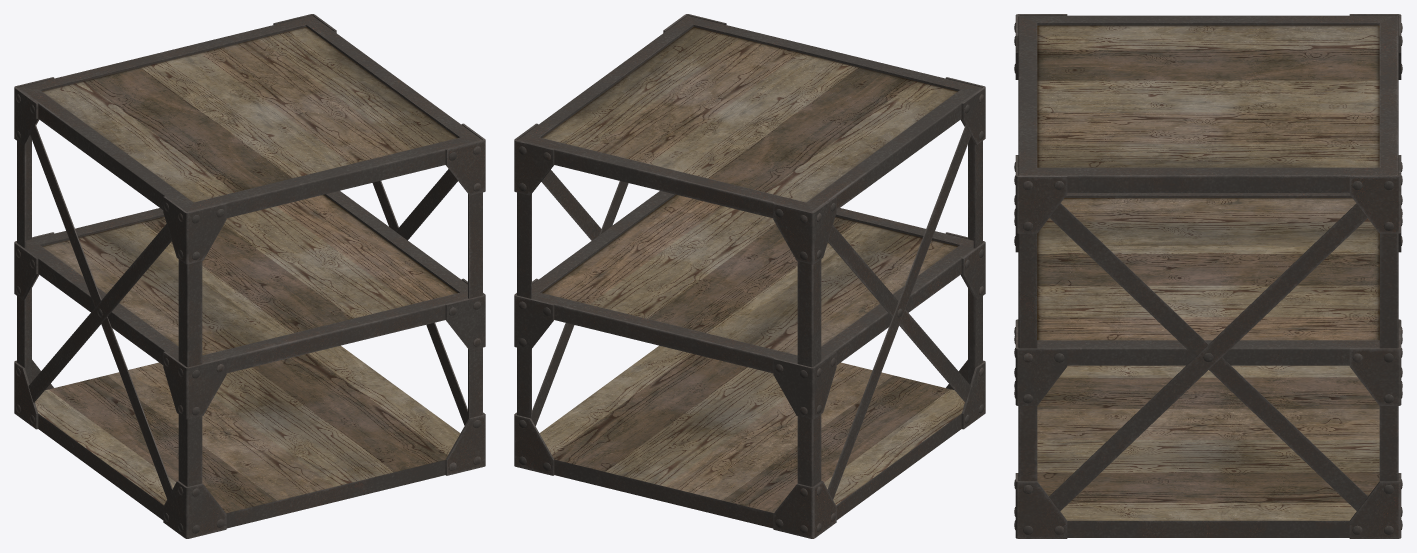
The model's file is industrial_table.glb.
3 views of the same model, side by side, from view 1: azimuth 30°, elevation 25°; view 2: azimuth 150°, elevation 25°; view 3: azimuth 270°, elevation 25° (orthographic). The views are drawn at different scales.
Visible parts, largest first — view 1: Shelf_final; view 2: Shelf_final; view 3: Shelf_final.
Part boxes in pixels (x1,y1,x2,y2): Shelf_final: (14, 14, 485, 538); Shelf_final: (514, 14, 985, 538); Shelf_final: (1014, 14, 1402, 538).
Bounding box in the file's own units: 0.8171 × 0.84 × 0.8171.
1 material, 1 textured.
